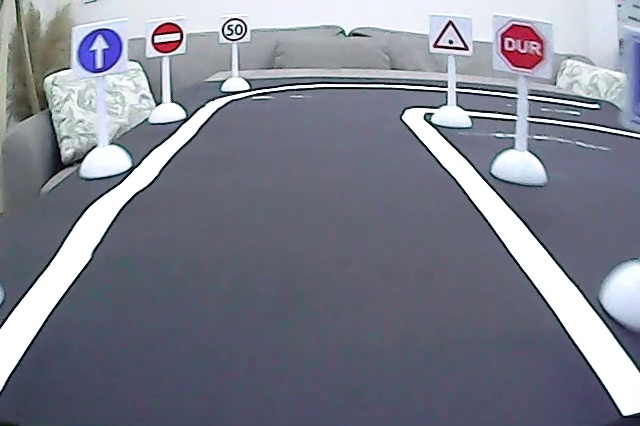do not enter: (149, 19, 186, 55)
green light: (432, 18, 472, 53)
speed limit 50: (221, 16, 249, 43)
stop sign: (493, 18, 550, 76)
